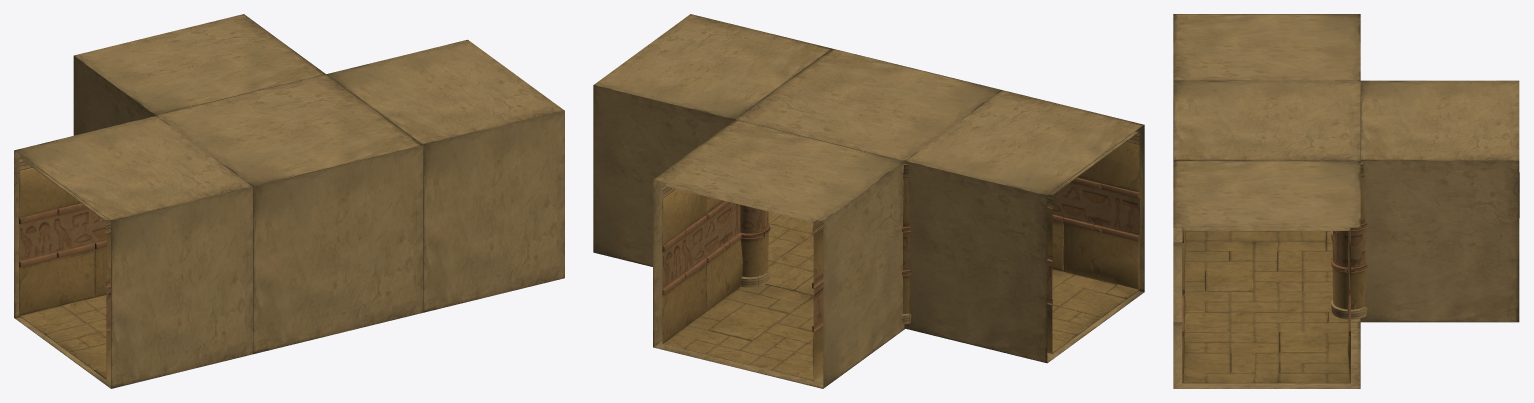
The model's file is m_Junction01.FBX.
3 renders of one model, left to right at view 1: azimuth 30°, elevation 25°; view 2: azimuth 150°, elevation 25°; view 3: azimuth 270°, elevation 25°, orthographic. The views are drawn at different scales.
Parts seen in each view (by area): view 1: m_Junction01; view 2: m_Junction01; view 3: m_Junction01.
Boxes of the visible parts, x1=… form: m_Junction01: x1=14, y1=14, x2=564, y2=388; m_Junction01: x1=593, y1=14, x2=1144, y2=388; m_Junction01: x1=1173, y1=14, x2=1519, y2=388.
Size of the model in its own units: 301 by 206 by 106.
Materials: 1 (1 with a texture image).
